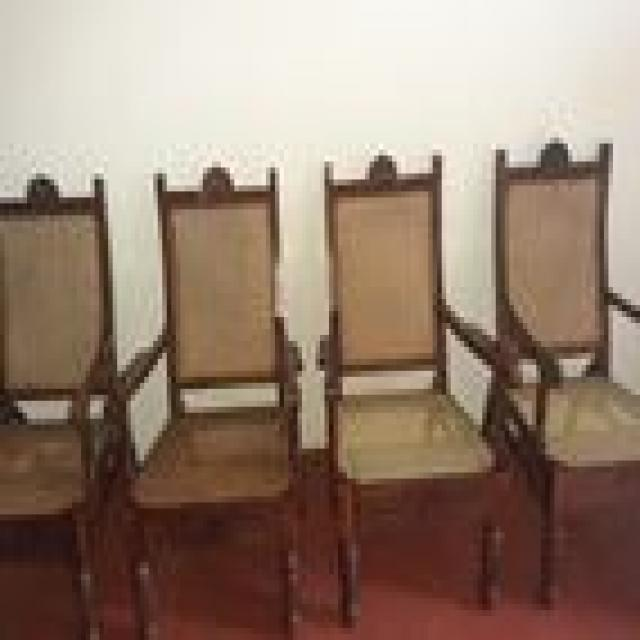others: (4, 137, 640, 634)
